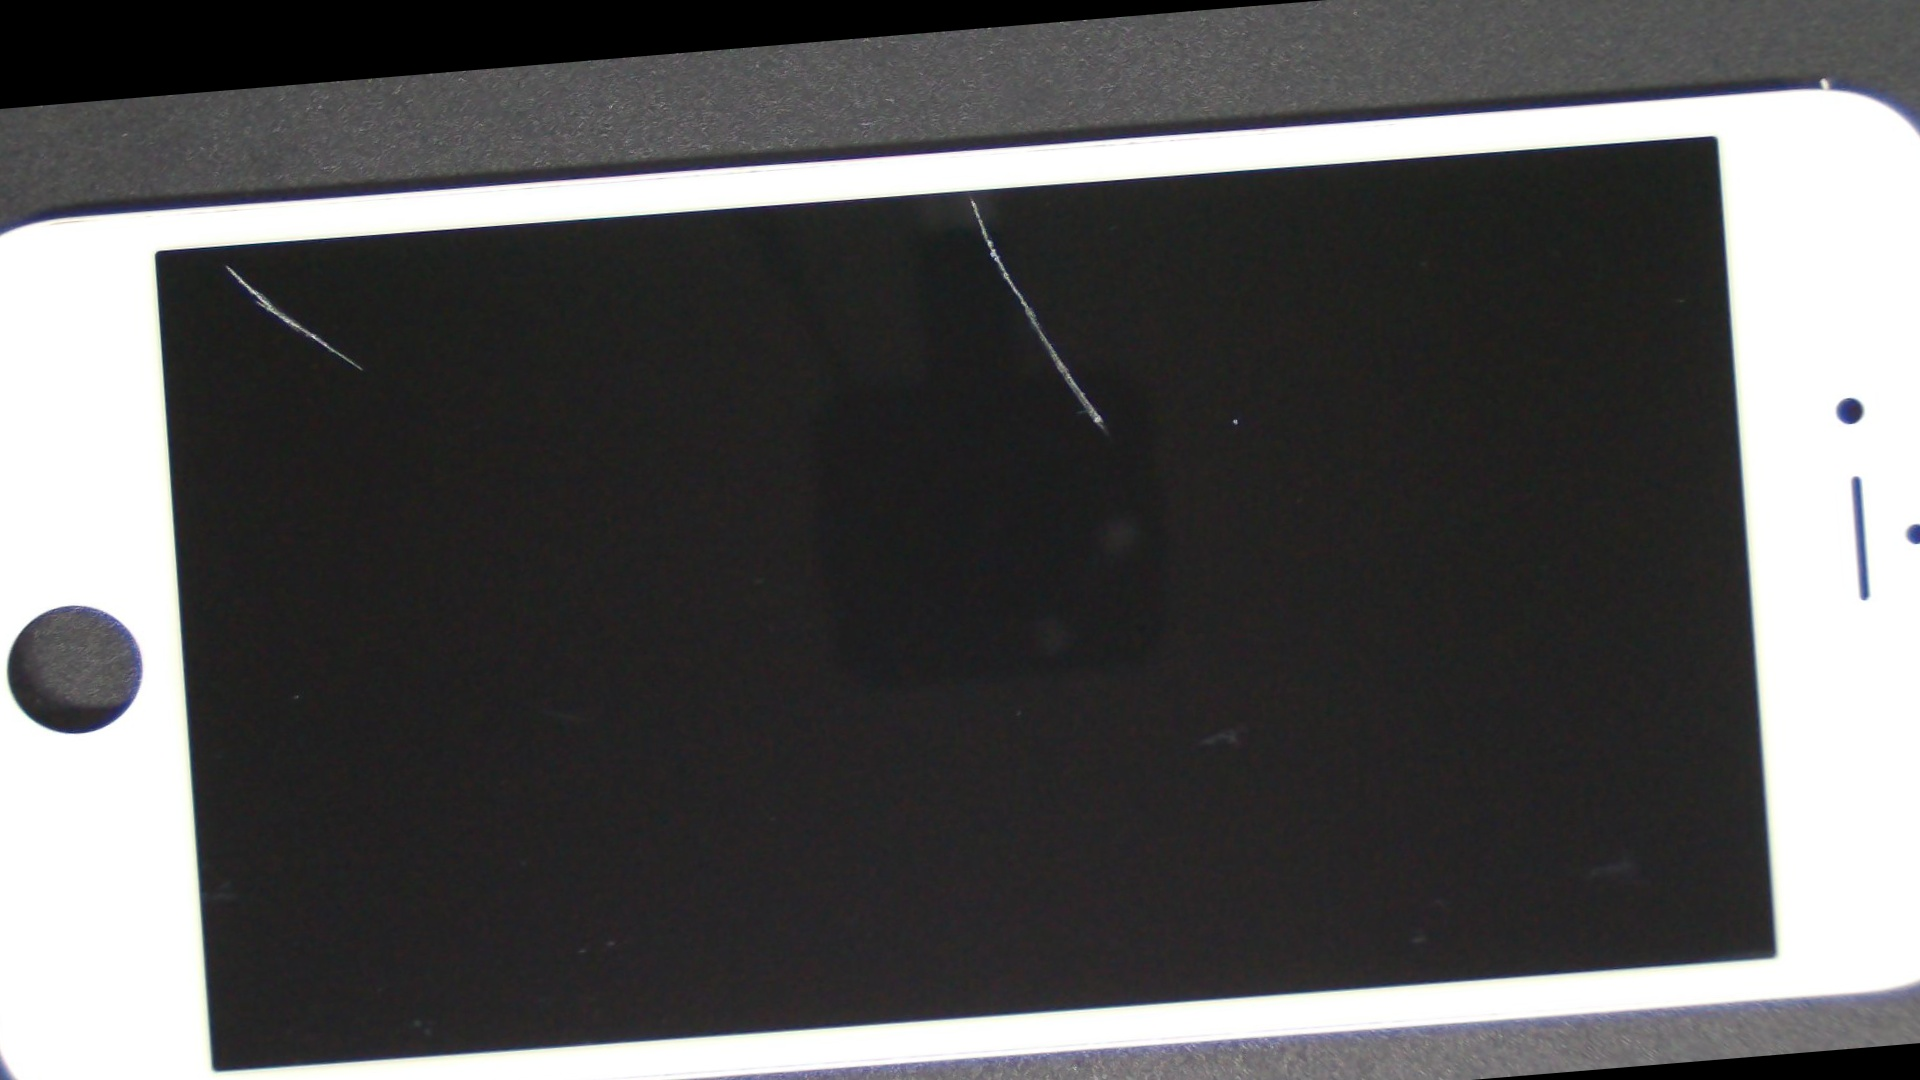oil: (430, 69, 1506, 326), (58, 164, 389, 364)
